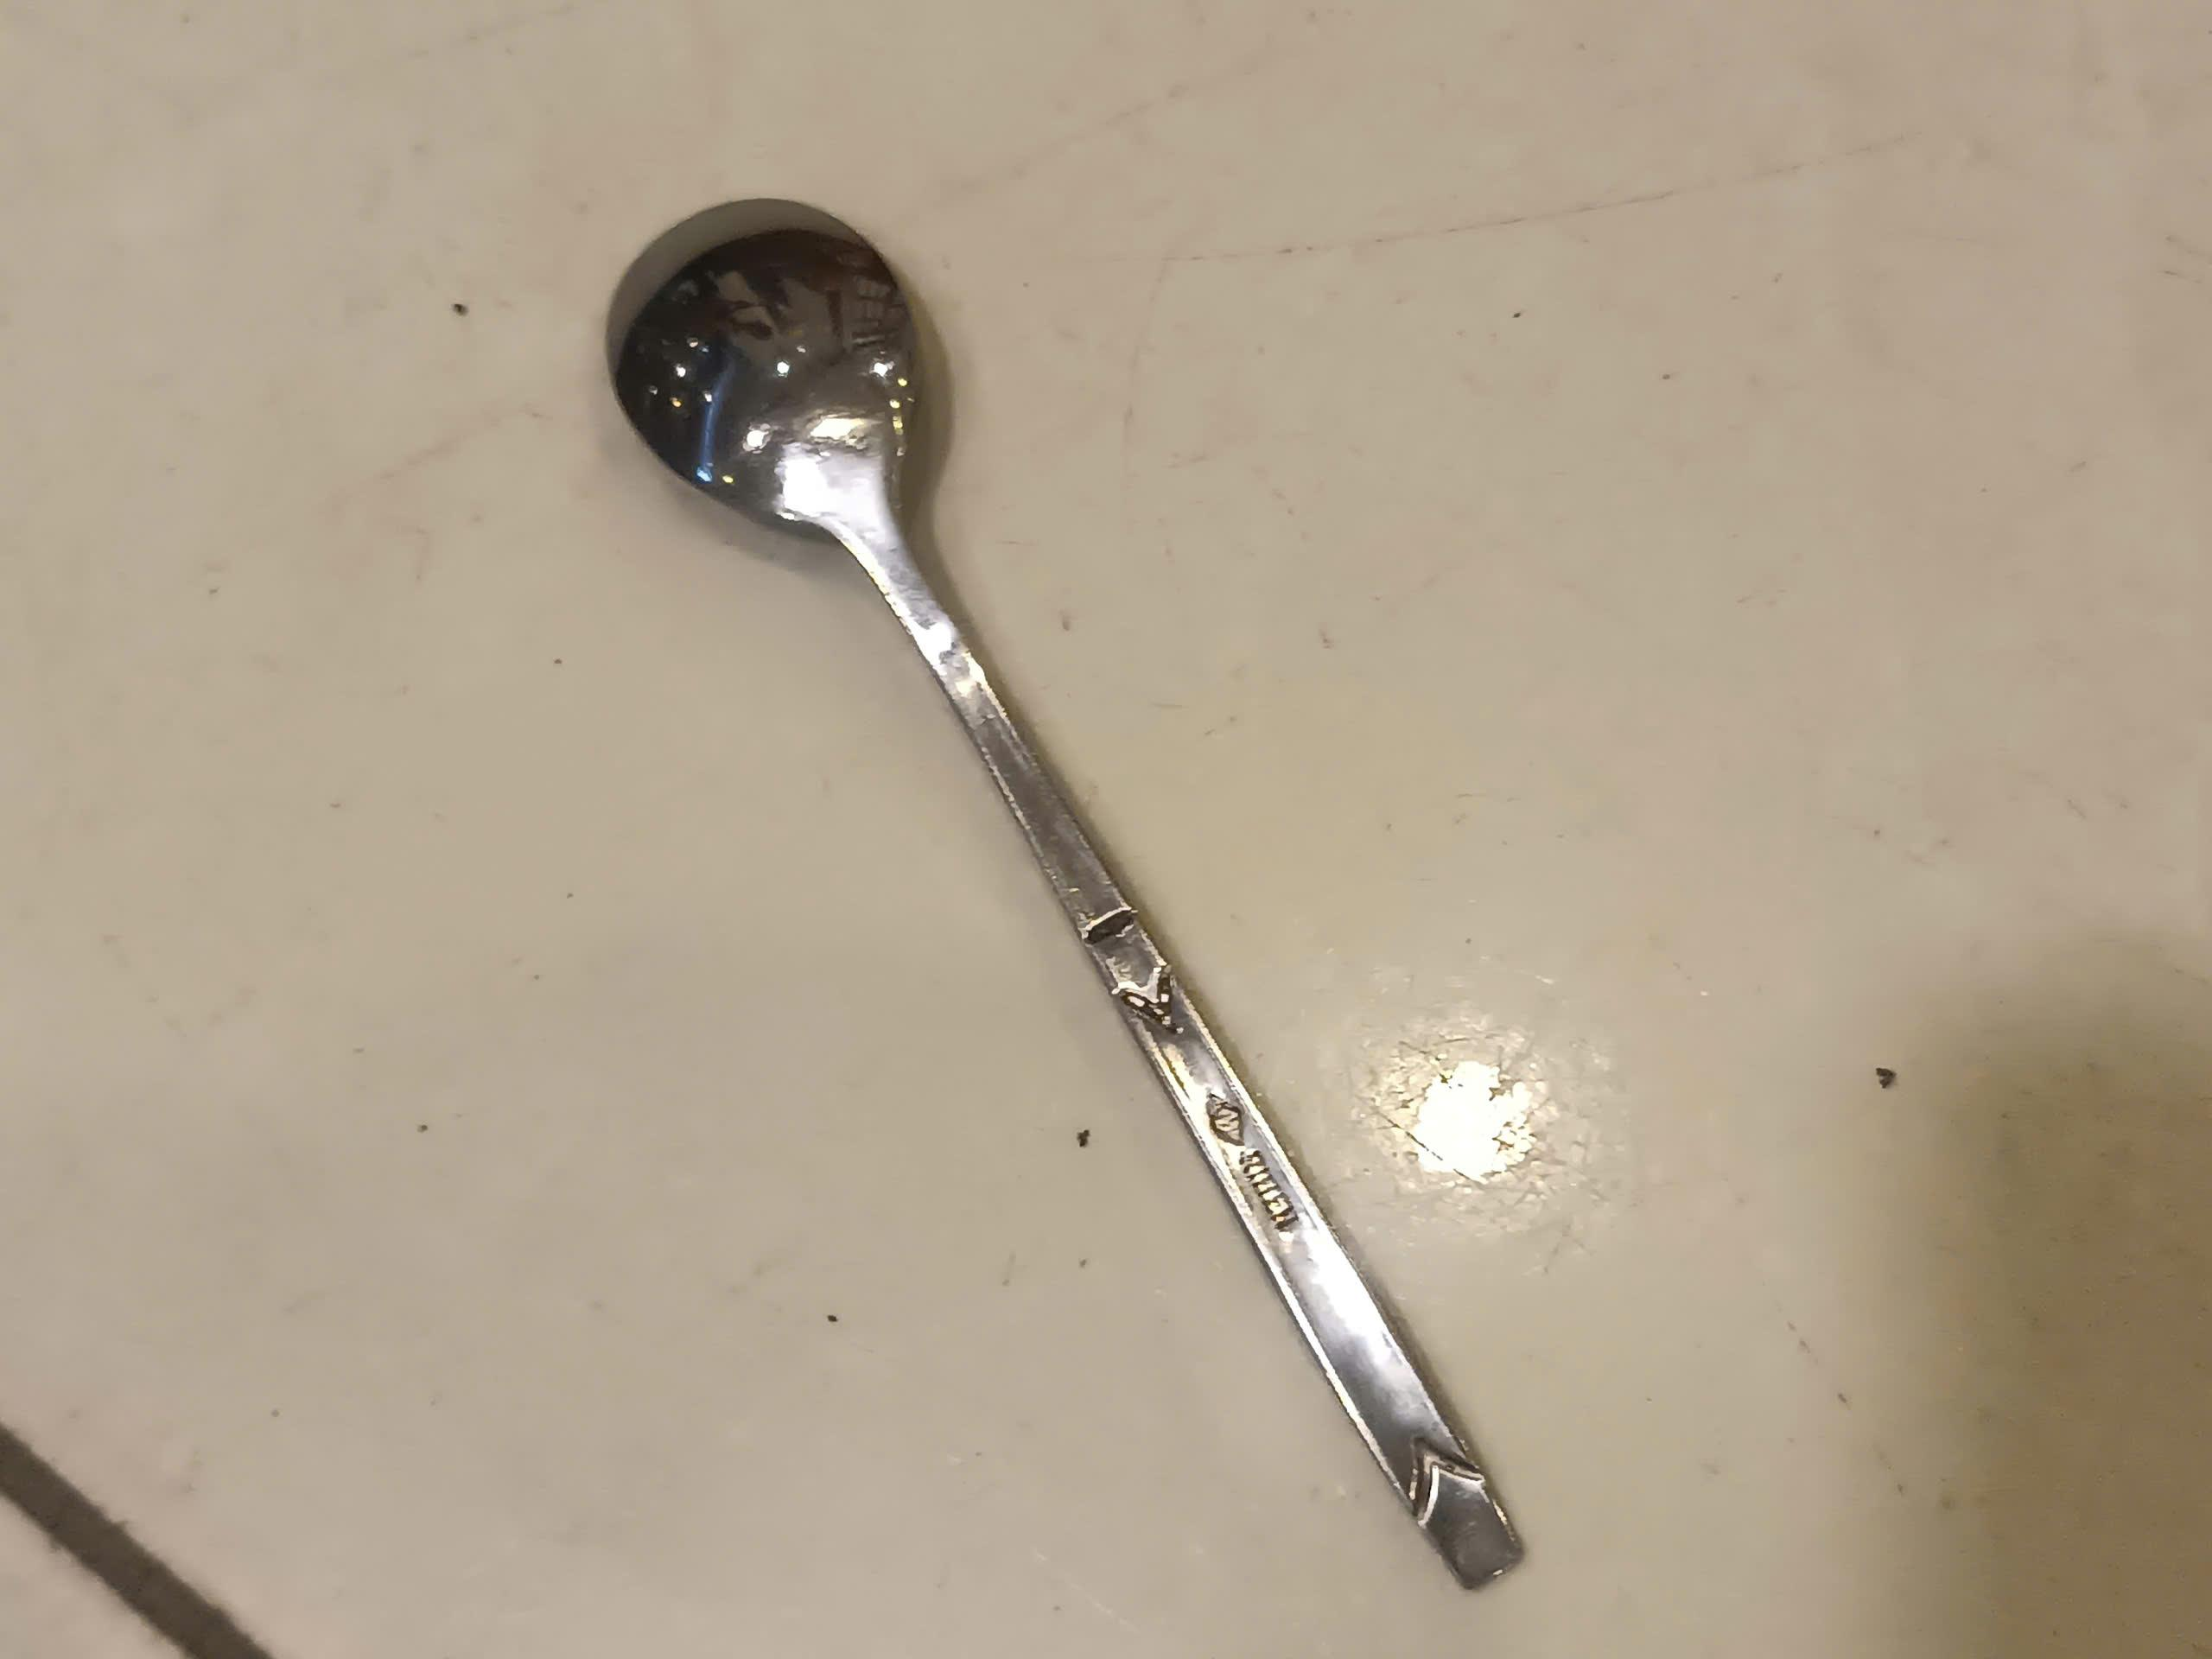Vo co: (603, 190, 1536, 1593)
